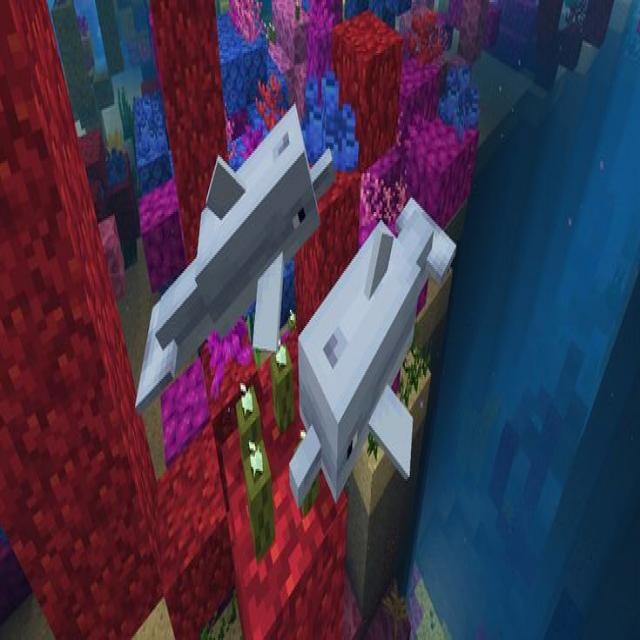Dolphin: (133, 96, 334, 416), (288, 188, 458, 514)
